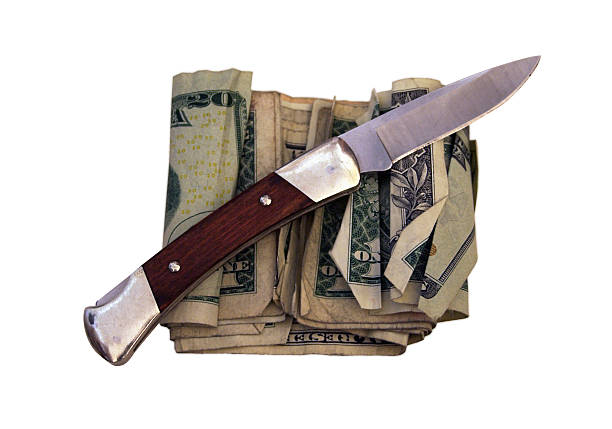knife: (80, 53, 543, 368)
